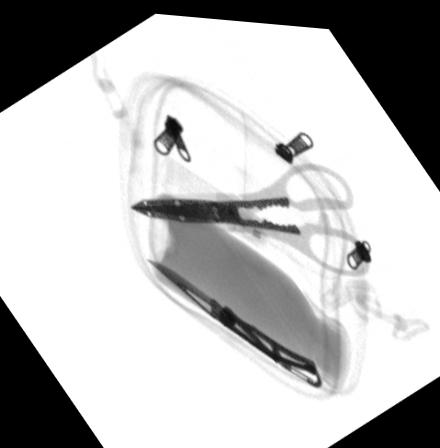Knife: (143, 256, 321, 383)
Scissors: (127, 156, 370, 272)
